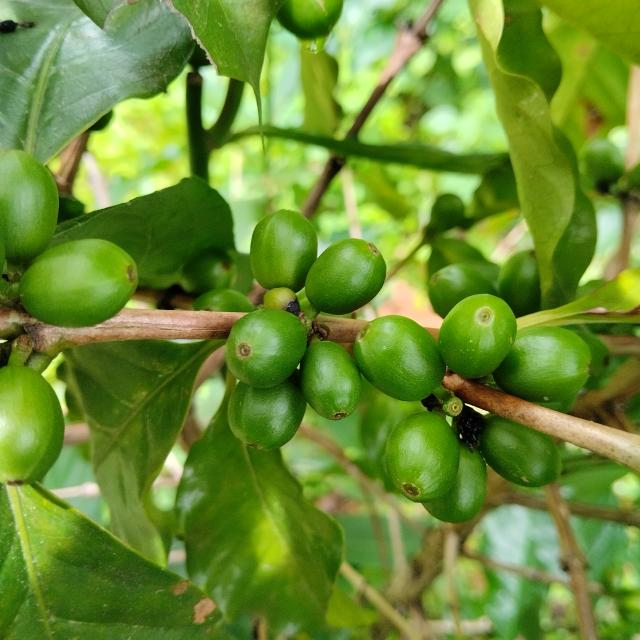green: (18, 239, 138, 327), (354, 315, 446, 401), (493, 327, 592, 403), (0, 366, 63, 485), (386, 412, 460, 503), (439, 294, 518, 379), (0, 149, 58, 264), (225, 309, 307, 389), (228, 370, 306, 451), (305, 238, 387, 315), (480, 414, 563, 488), (250, 209, 318, 291), (423, 442, 488, 524), (299, 341, 362, 421)
